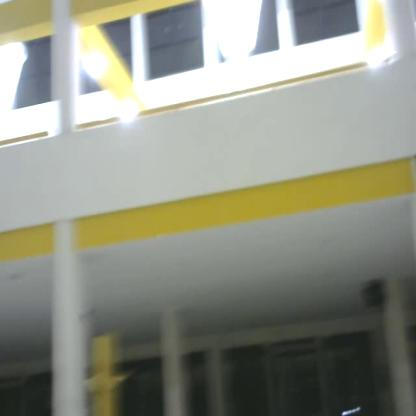pole: (73, 330, 131, 416)
